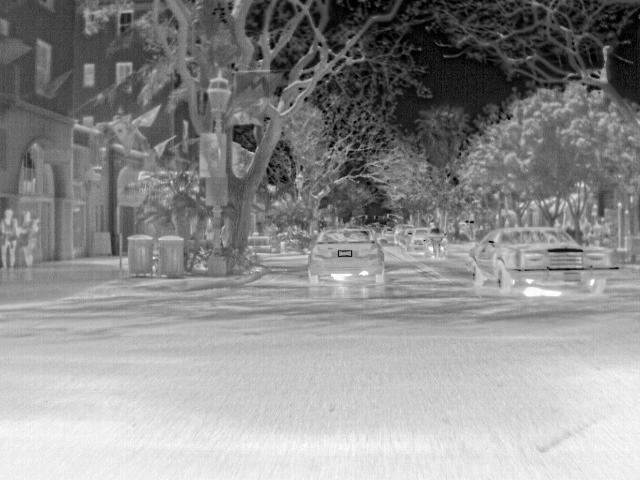car: (465, 226, 620, 297), (302, 226, 387, 288), (410, 227, 432, 251)
person: (2, 208, 24, 275), (22, 207, 38, 277), (426, 220, 443, 234)
